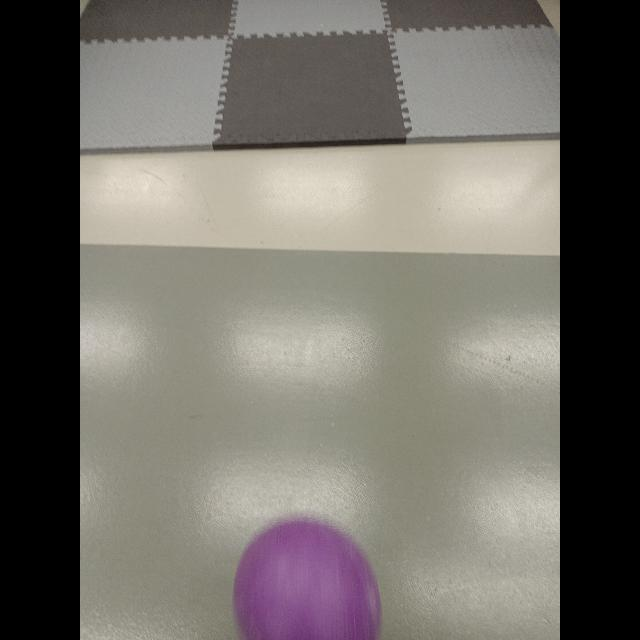P: (228, 520, 384, 640)
